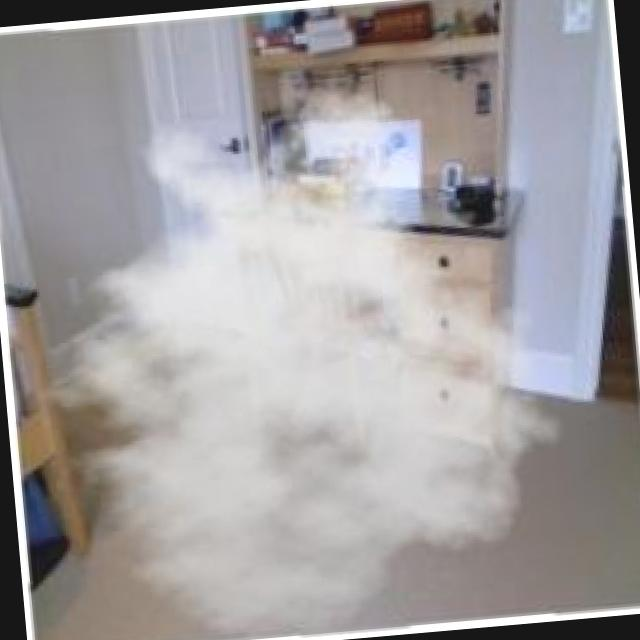smoke: (104, 190, 442, 536)
